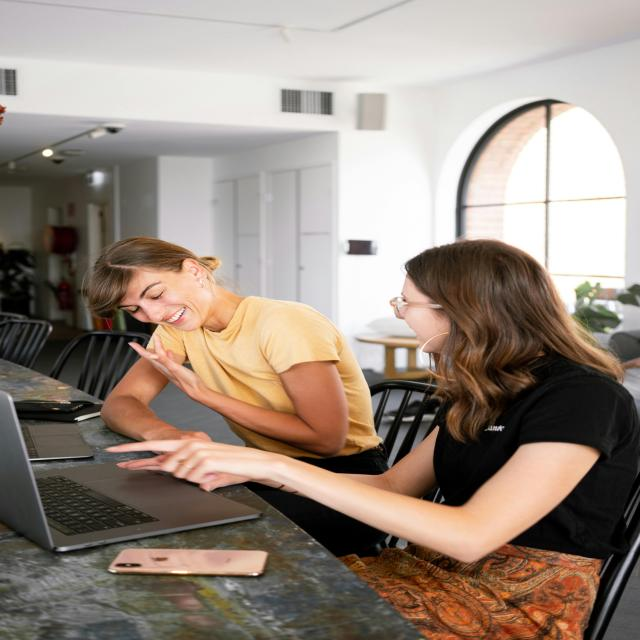sit: (254, 245, 635, 640), (63, 229, 392, 538)
